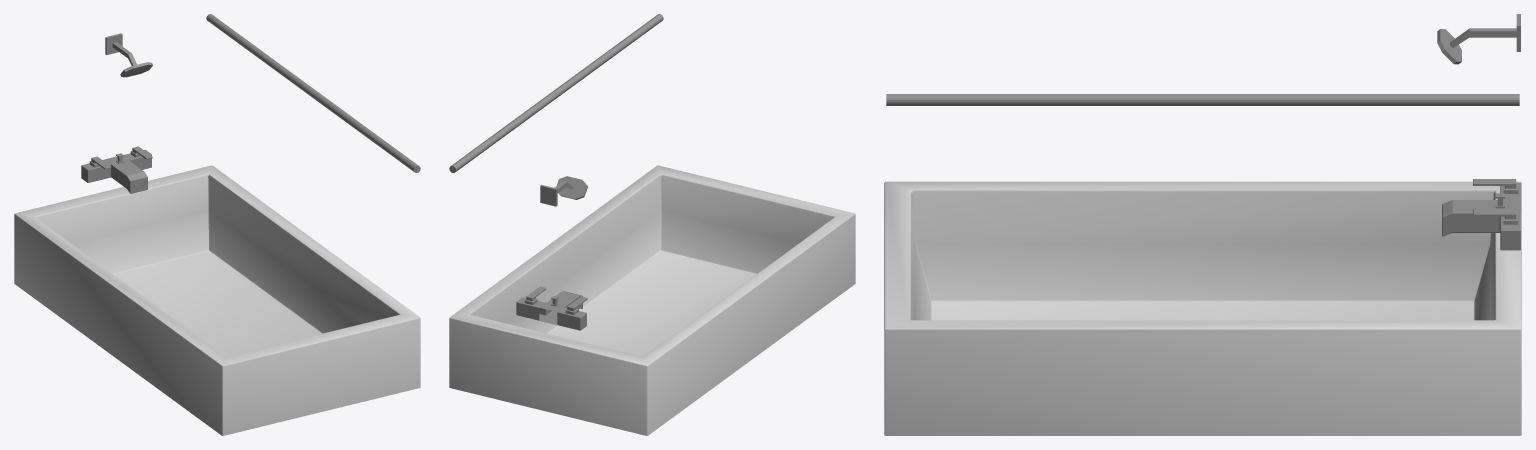
The model's file is SM_Tub.fbx.
The picture shows the model from 3 angles, left to right: view 1: azimuth 30°, elevation 25°; view 2: azimuth 150°, elevation 25°; view 3: azimuth 270°, elevation 25°; orthographic projection. The views are drawn at different scales.
Visible parts, largest first — view 1: Tub, CurtainPipe, Faucet, Shower; view 2: Tub, CurtainPipe, Faucet, Shower; view 3: Tub, CurtainPipe, Faucet, Shower.
Boxes of the visible parts, left/top/right/bottom form: Tub: left=14, top=165, right=420, bottom=435; CurtainPipe: left=206, top=14, right=420, bottom=172; Faucet: left=81, top=146, right=152, bottom=193; Shower: left=105, top=33, right=152, bottom=77; Tub: left=449, top=165, right=855, bottom=435; CurtainPipe: left=449, top=14, right=663, bottom=172; Faucet: left=516, top=286, right=587, bottom=330; Shower: left=540, top=176, right=587, bottom=206; Tub: left=884, top=181, right=1521, bottom=435; CurtainPipe: left=886, top=94, right=1519, bottom=105; Faucet: left=1442, top=179, right=1520, bottom=250; Shower: left=1437, top=14, right=1520, bottom=64.
Size of the model in its own units: 102 by 110 by 185.
